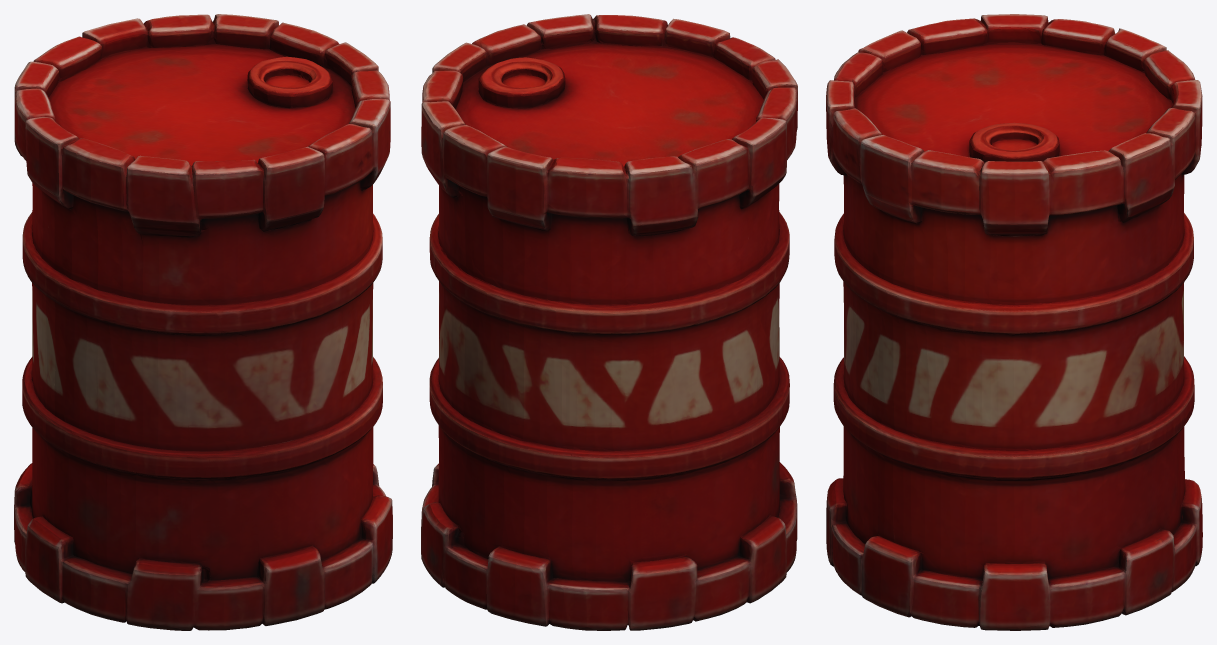
File: FuelCan.glb
The picture shows the model from 3 angles, left to right: view 1: azimuth 30°, elevation 25°; view 2: azimuth 150°, elevation 25°; view 3: azimuth 270°, elevation 25°; orthographic projection.
Visible parts, largest first — view 1: world; view 2: world; view 3: world.
Boxes of the visible parts, bbox=[...] form: world: bbox=[14, 14, 392, 630]; world: bbox=[421, 14, 797, 630]; world: bbox=[826, 14, 1202, 630].
Bounding box in the file's own units: 0.743 × 1 × 0.7412.
1 material, 1 textured.
